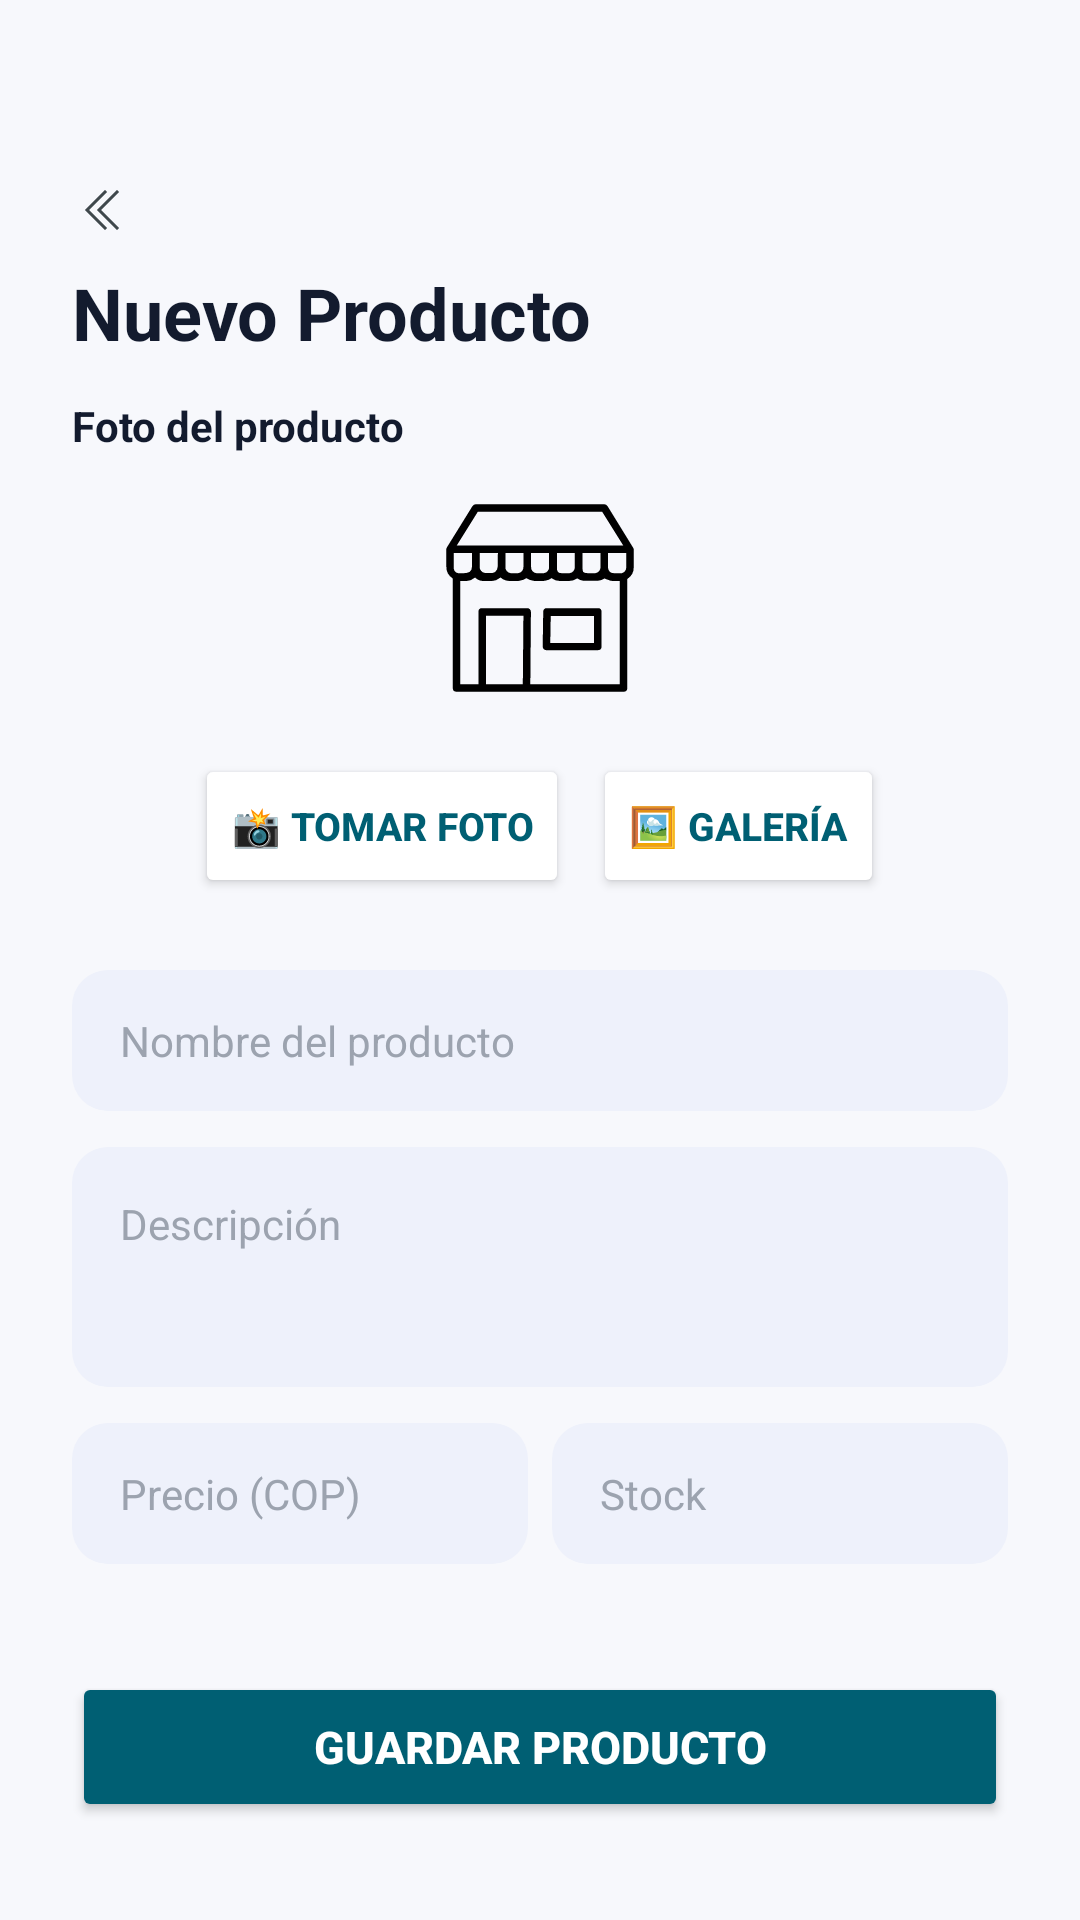

Screen size 1080w x 1920h. Icon name, then its center in pixels as (x,y):
atras: (102,210)
tienda: (540,598)
